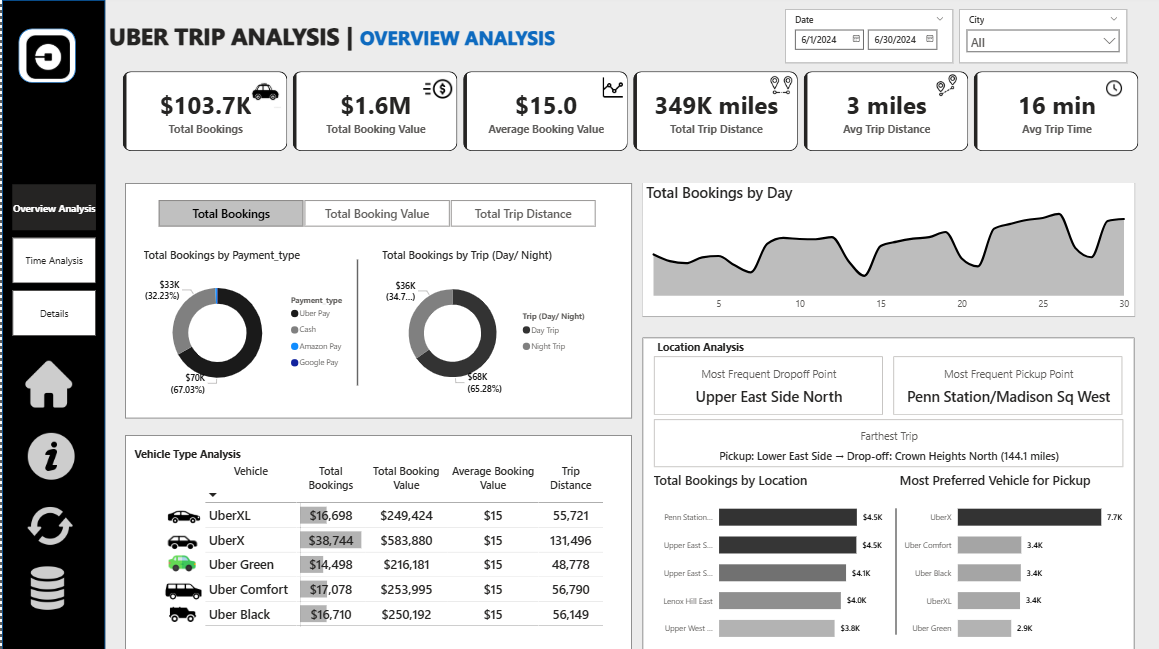

The dashboard page shown, as its layout file describes it:
{"tool":"powerbi","page":{"name":"Overview Analysis","canvas":[1600,900],"ordinal":0},"visuals":[{"type":"shape","box":[0,0,142.5,900],"z":0},{"type":"textbox","box":[142.5,22.5,640,52.5],"z":1000},{"type":"cardVisual","fields":{"Data":["Trip Details.Total Bookings","Trip Details.Total Booking Amount","Trip Details.Average Booking Amount","Trip Details.Total Trip Distance","Trip Details.Average Trip Distance","Trip Details.Average Trip Time"]},"box":[162,93,1415,120],"z":2000},{"type":"image","box":[552.5,97.5,97.5,50],"z":3000},{"type":"image","box":[1020,97.5,110,40],"z":4000},{"type":"image","box":[1235,97.5,142.5,40],"z":5000},{"type":"image","box":[1470,105,130,32.5],"z":6000},{"type":"image","box":[720,100,245,42.5],"z":7000},{"type":"shape","box":[170,252.5,700,325],"z":8000},{"type":"slicer","fields":{"Values":["Dynamic Measure.Dynamic Measure"]},"box":[190,270,652.5,50],"z":9000},{"type":"donutChart","fields":{"Y":["Trip Details.Total Bookings"],"Category":["Trip Details.Payment_type"]},"box":[190,342.5,300,215],"z":10000},{"type":"donutChart","fields":{"Y":["Trip Details.Total Bookings"],"Category":["Trip Details.Trip (Day/ Night)"]},"box":[519.3,342.4,298.7,216],"z":11000},{"type":"shape","box":[169.8,600.5,699.9,300.2],"z":12000},{"type":"image","box":[217.4,778.5,66.3,76.6],"z":13000},{"type":"pivotTable","fields":{"Rows":["Trip Details.Vehicle"],"Values":["Trip Details.Total Bookings","Trip Details.Total Booking Value","Trip Details.Average Booking Value","Trip Details.Trip Distance"]},"box":[275.4,629.5,567.3,246.4],"z":14000},{"type":"image","box":[302.3,99.4,122.2,55.9],"z":15000},{"type":"image","box":[194.6,753.7,107.7,47.6],"z":16000},{"type":"image","box":[192.6,722.6,113.9,51.8],"z":17000},{"type":"image","box":[194.6,824.1,109.7,47.6],"z":18000},{"type":"image","box":[186.4,683.3,130.4,60],"z":19000},{"type":"card","fields":{"Values":["Trip Details.Vehicle Type Analysis"]},"box":[20,592.5,470,72.5],"z":20000},{"type":"shape","box":[884.1,252.6,680,185],"z":21000},{"type":"areaChart","fields":{"Category":["Calendar Table.Date.Variation.Date Hierarchy.Day"],"Y":["Trip Details.Total Bookings"]},"box":[884.1,252.6,679.2,184.3],"z":22000},{"type":"shape","box":[884.1,465.9,679.2,434.8],"z":23000},{"type":"cardVisual","fields":{"Data":["Trip Details.Most Frequent Dropoff Point","Trip Details.Most Frequent Pickup Point"]},"box":[894.5,486.6,658.5,91.1],"z":24000},{"type":"cardVisual","fields":{"Data":["Trip Details.Farthest Trip"]},"box":[894.5,573.6,658.5,76.6],"z":25000},{"type":"barChart","fields":{"Y":["Trip Details.Total Bookings"],"Category":["Location Table.Location"]},"box":[894.5,650.2,329.2,250.5],"z":26000},{"type":"barChart","title":"Most Preferred Vehicle for Pickup","fields":{"Category":["Trip Details.Vehicle"],"Y":["CountNonNull(Trip Details.PULocationID)"]},"box":[1234.1,650.2,318.9,250.5],"z":27000},{"type":"shape","box":[412,358.2,157.4,173.9],"z":28000},{"type":"shape","box":[1155.4,701.9,157.4,173.9],"z":29000},{"type":"card","fields":{"Values":["Trip Details.Location Type Analysis"]},"box":[728.9,445.2,470,72.5],"z":30000},{"type":"slicer","fields":{"Values":["Calendar Table.Date"]},"box":[1080.9,12.4,231.9,74.5],"z":31000},{"type":"slicer","fields":{"Values":["Location Table.City"]},"box":[1321,12.4,231.9,74.5],"z":32000},{"type":"shape","box":[22.5,40,79,75],"z":33000},{"type":"image","box":[12.5,42.5,102.5,70],"z":34000},{"type":"pageNavigator","box":[15,255,115,210],"z":35000},{"type":"image","box":[27.5,487.5,75,87.5],"z":36000},{"type":"image","box":[27.5,592.5,82.5,75],"z":37000},{"type":"image","box":[22.5,690,87.5,72.5],"z":38000},{"type":"image","box":[22.5,777.5,80,70],"z":39000}]}

Visuals, with their boxes in screenshot pixels (x1, y1, x2, y2), scaled from the page's 1600x900 canvas onto the 1159x649 screenshot:
shape: <region>0, 0, 103, 648</region>
textbox: <region>103, 16, 567, 54</region>
cardVisual - Trip Details.Total Bookings x Trip Details.Total Booking Amount: <region>117, 67, 1142, 154</region>
image: <region>400, 70, 471, 106</region>
image: <region>739, 70, 819, 99</region>
image: <region>895, 70, 998, 99</region>
image: <region>1065, 76, 1158, 99</region>
image: <region>522, 72, 699, 103</region>
shape: <region>123, 182, 630, 416</region>
slicer - Dynamic Measure.Dynamic Measure: <region>138, 195, 610, 231</region>
donutChart - Trip Details.Total Bookings x Trip Details.Payment_type: <region>138, 247, 355, 402</region>
donutChart - Trip Details.Total Bookings x Trip Details.Trip (Day/ Night): <region>376, 247, 593, 403</region>
shape: <region>123, 433, 630, 648</region>
image: <region>157, 561, 206, 617</region>
pivotTable - Trip Details.Vehicle x Trip Details.Total Bookings: <region>199, 454, 610, 632</region>
image: <region>219, 72, 307, 112</region>
image: <region>141, 544, 219, 578</region>
image: <region>140, 521, 222, 558</region>
image: <region>141, 594, 220, 629</region>
image: <region>135, 493, 229, 536</region>
card - Trip Details.Vehicle Type Analysis: <region>14, 427, 355, 480</region>
shape: <region>640, 182, 1133, 316</region>
areaChart - Calendar Table.Date.Variation.Date Hierarchy.Day x Trip Details.Total Bookings: <region>640, 182, 1132, 315</region>
shape: <region>640, 336, 1132, 648</region>
cardVisual - Trip Details.Most Frequent Dropoff Point x Trip Details.Most Frequent Pickup Point: <region>648, 351, 1125, 417</region>
cardVisual - Trip Details.Farthest Trip: <region>648, 414, 1125, 469</region>
barChart - Trip Details.Total Bookings x Location Table.Location: <region>648, 469, 886, 648</region>
"Most Preferred Vehicle for Pickup" barChart: <region>894, 469, 1125, 648</region>
shape: <region>298, 258, 412, 384</region>
shape: <region>837, 506, 951, 632</region>
card - Trip Details.Location Type Analysis: <region>528, 321, 868, 373</region>
slicer - Calendar Table.Date: <region>783, 9, 951, 63</region>
slicer - Location Table.City: <region>957, 9, 1125, 63</region>
shape: <region>16, 29, 74, 83</region>
image: <region>9, 31, 83, 81</region>
pageNavigator: <region>11, 184, 94, 335</region>
image: <region>20, 352, 74, 415</region>
image: <region>20, 427, 80, 481</region>
image: <region>16, 498, 80, 550</region>
image: <region>16, 561, 74, 611</region>
